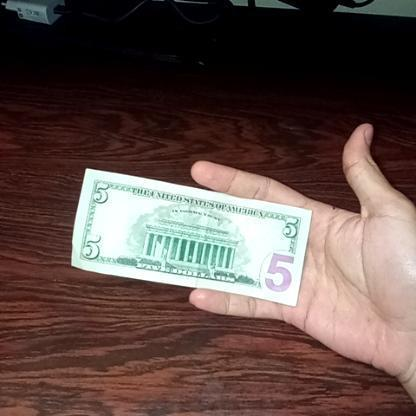five-back: (70, 164, 314, 304)
